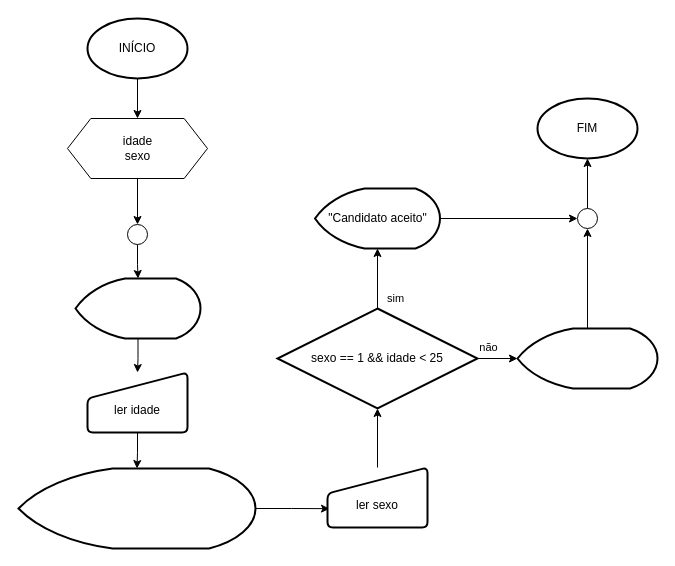
Some shapes in this 675 by 566 pixel diagram are drawn without their labels. Each missing label, with the centre of its shape:
"Candidato rejeitado": the point at 587,358
"Insira sua idade: ": the point at 137,308
"Qual seu sexo (1 = FEM., outro número = MASC.)?": the point at 136,508
